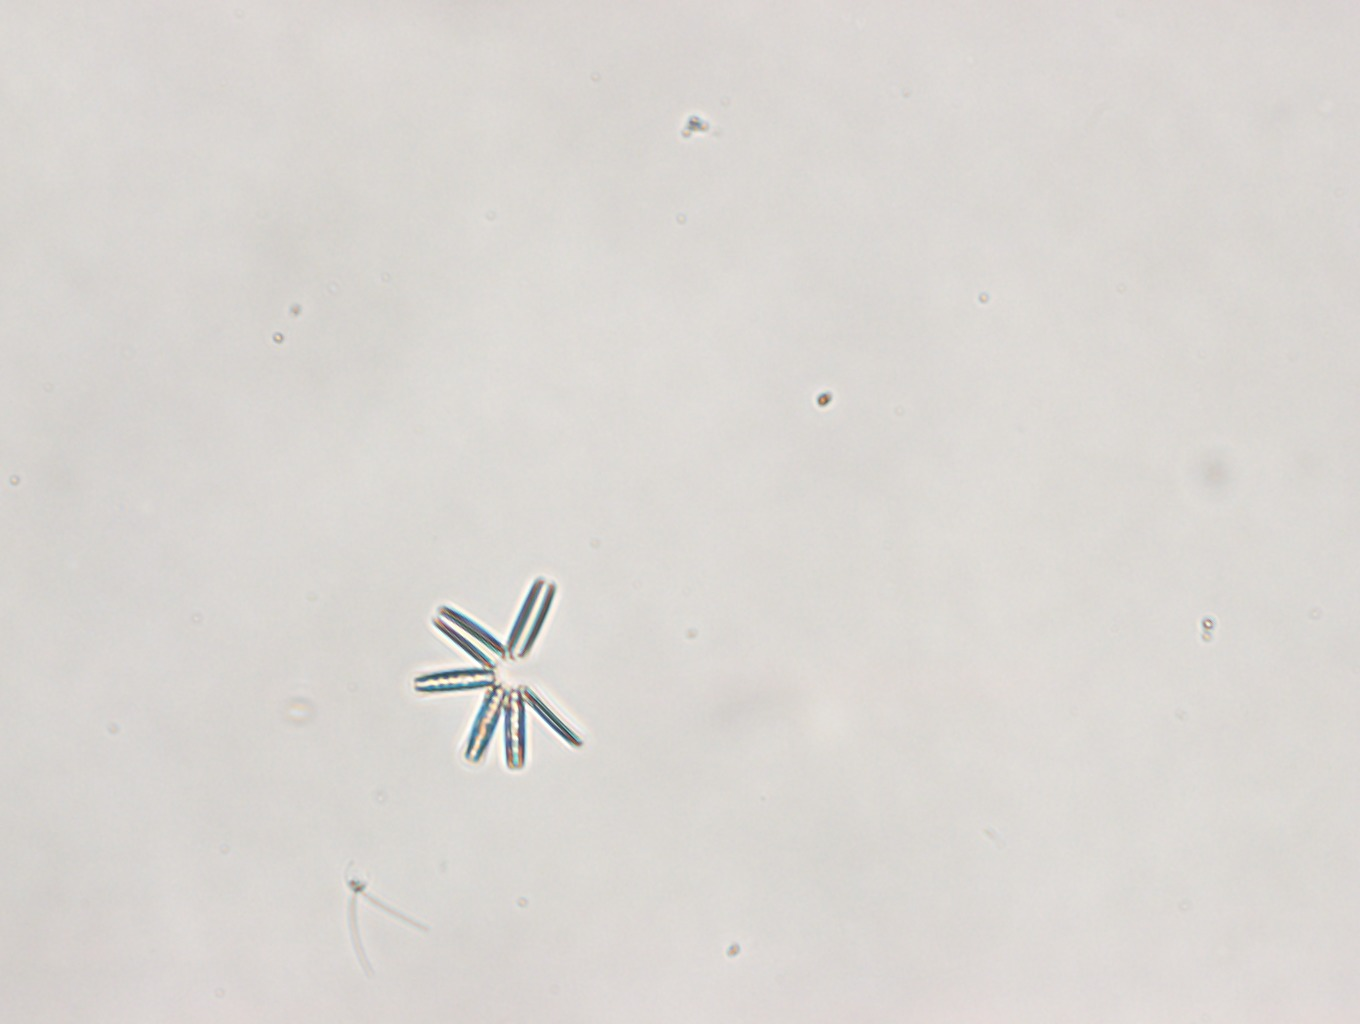thalassionema nitzschioides: (415, 577, 582, 769)
